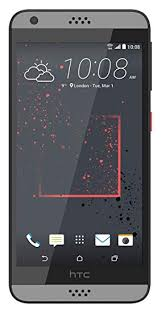htc: (6, 6, 153, 306)
